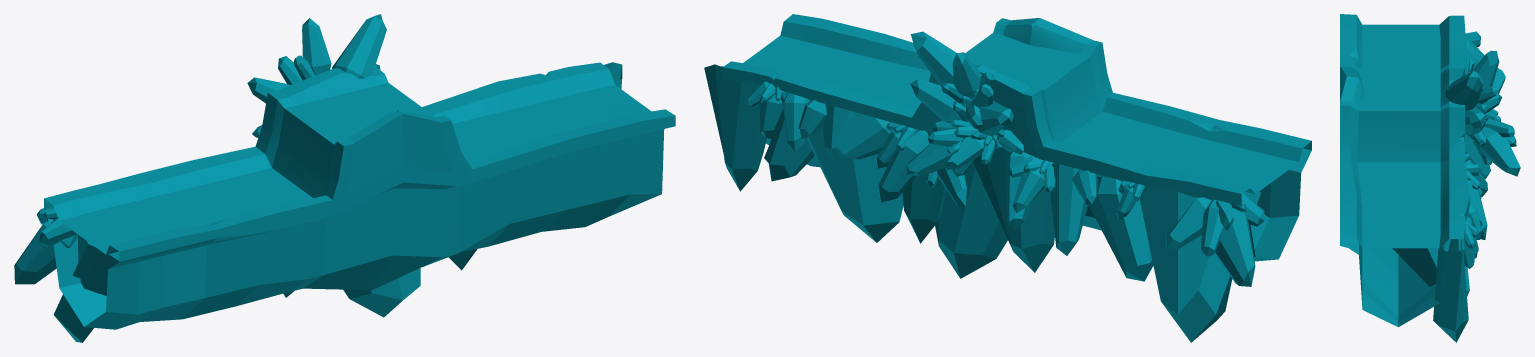
The model's file is Lrg_Modul_Step_up.fbx.
3 renders of one model, left to right at view 1: azimuth 30°, elevation 25°; view 2: azimuth 150°, elevation 25°; view 3: azimuth 270°, elevation 25°, orthographic. The views are drawn at different scales.
Parts seen in each view (by area): view 1: Lrg_Modul_Stepup; view 2: Lrg_Modul_Stepup; view 3: Lrg_Modul_Stepup.
Boxes of the visible parts, x1,y1,x2,y2 form: Lrg_Modul_Stepup: [14, 14, 675, 342]; Lrg_Modul_Stepup: [704, 14, 1311, 342]; Lrg_Modul_Stepup: [1340, 14, 1520, 342].
Size of the model in its own units: 6.31 by 2.82 by 2.01.
